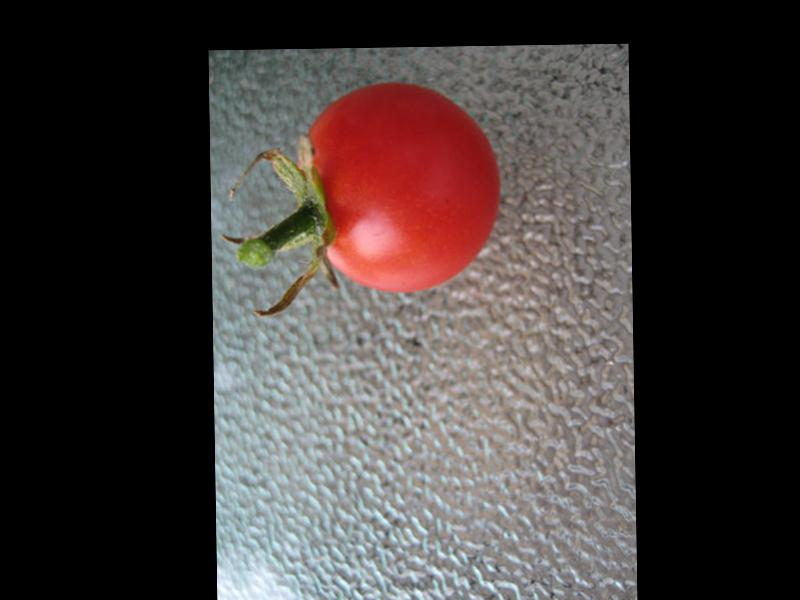Tomato: (306, 82, 502, 296)
